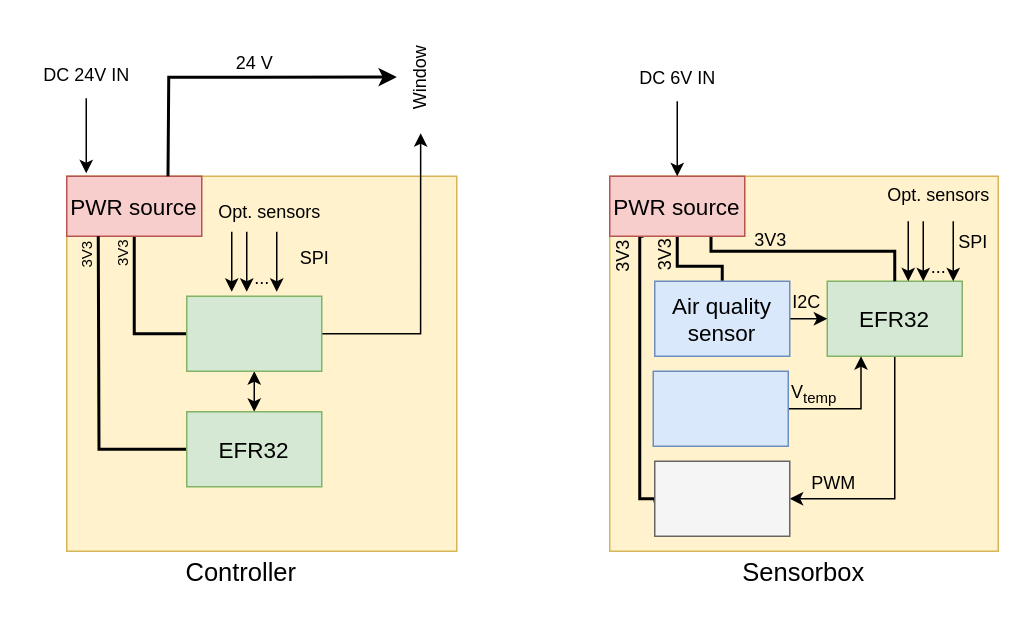
This 1031x621 diagram has some shape labels left out. Each missing label, with the centre of its shape:
"ESP32" goes at (x=253, y=333).
"FAN" goes at (x=721, y=498).
"Temp. sensor" goes at (x=720, y=408).
